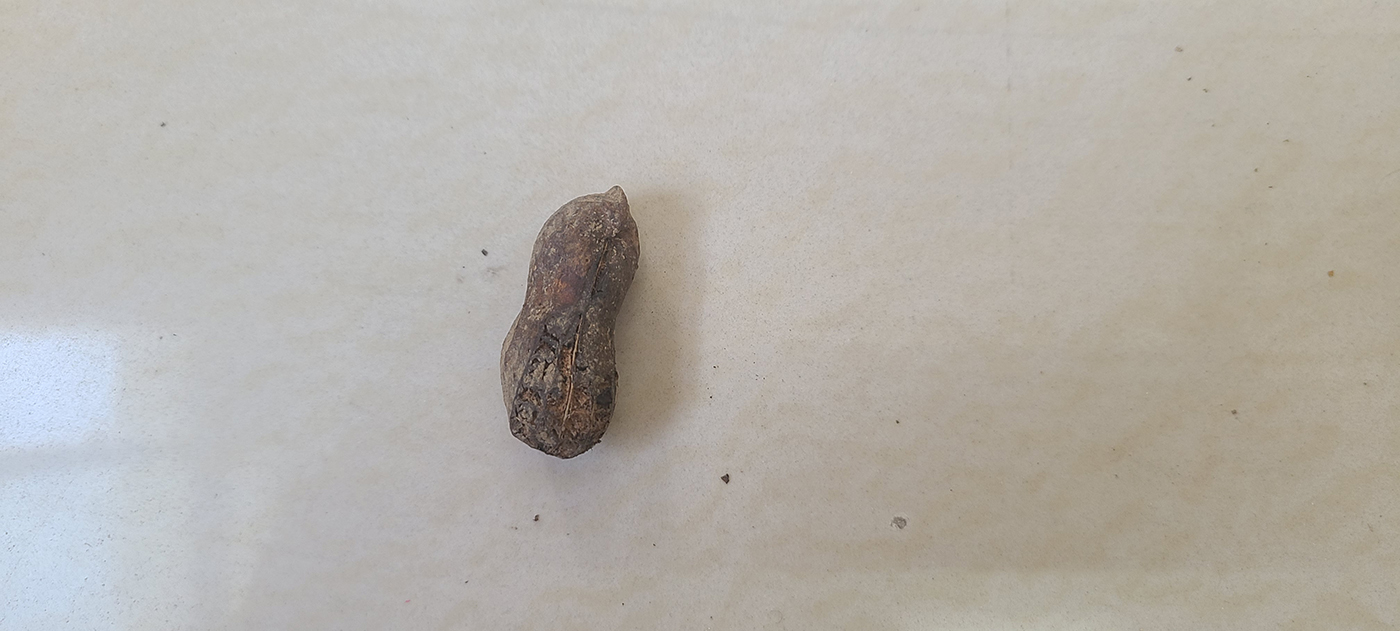l: (502, 186, 642, 462)
